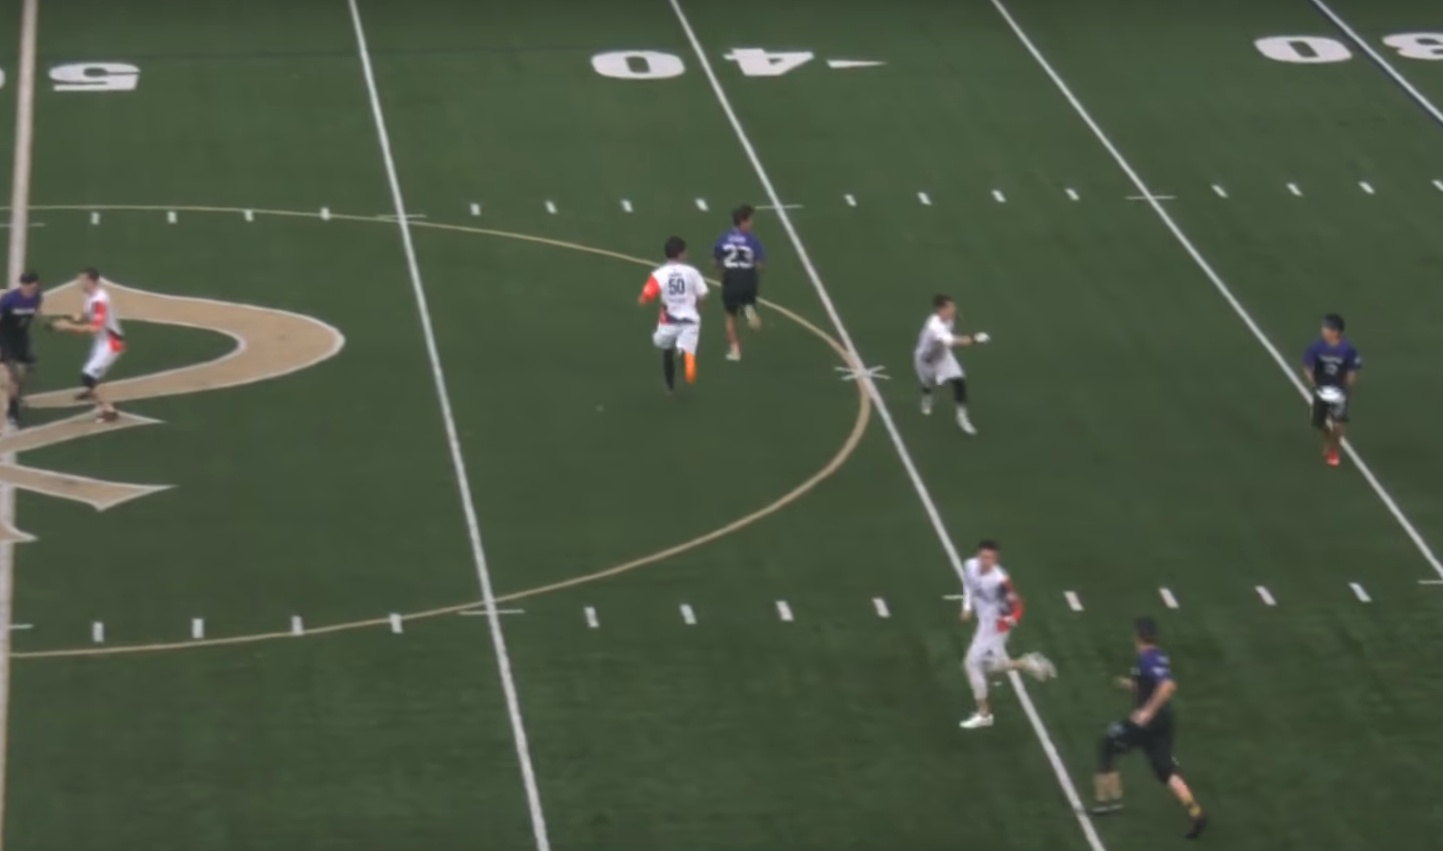frisbee: (1316, 384, 1347, 405)
